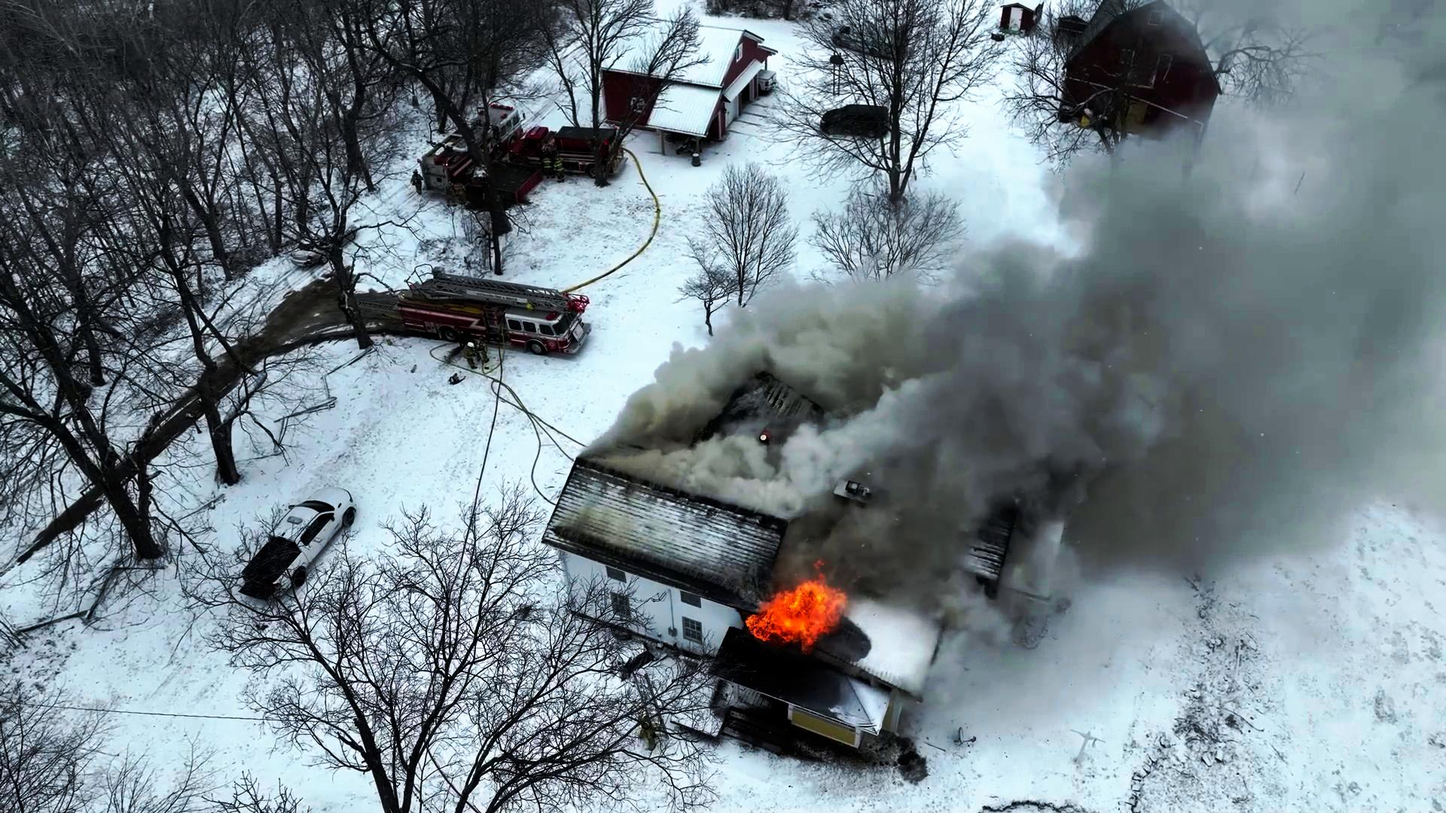fire: (757, 567, 850, 646)
smoke: (938, 364, 1219, 503)
